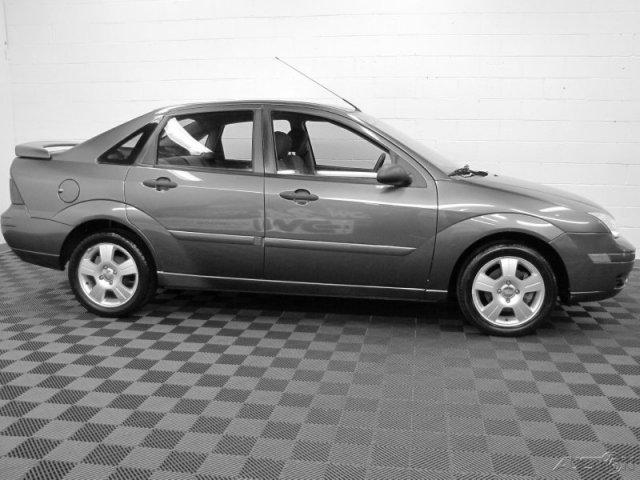car: (3, 101, 637, 337)
